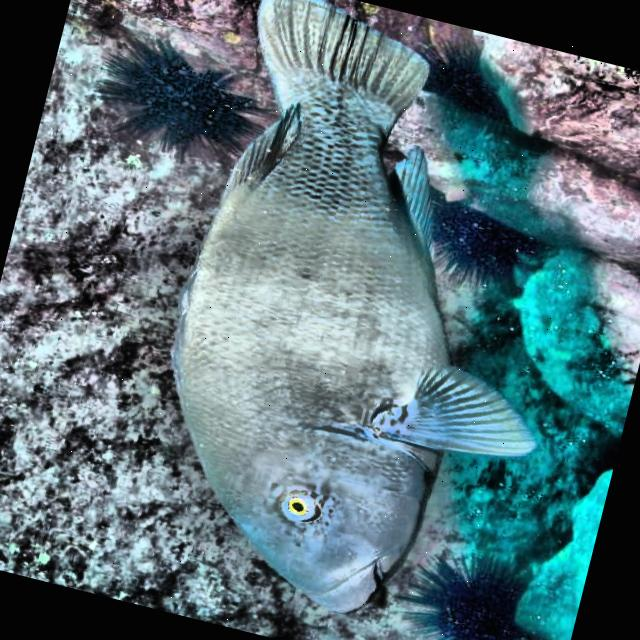fish: (115, 0, 624, 640)
